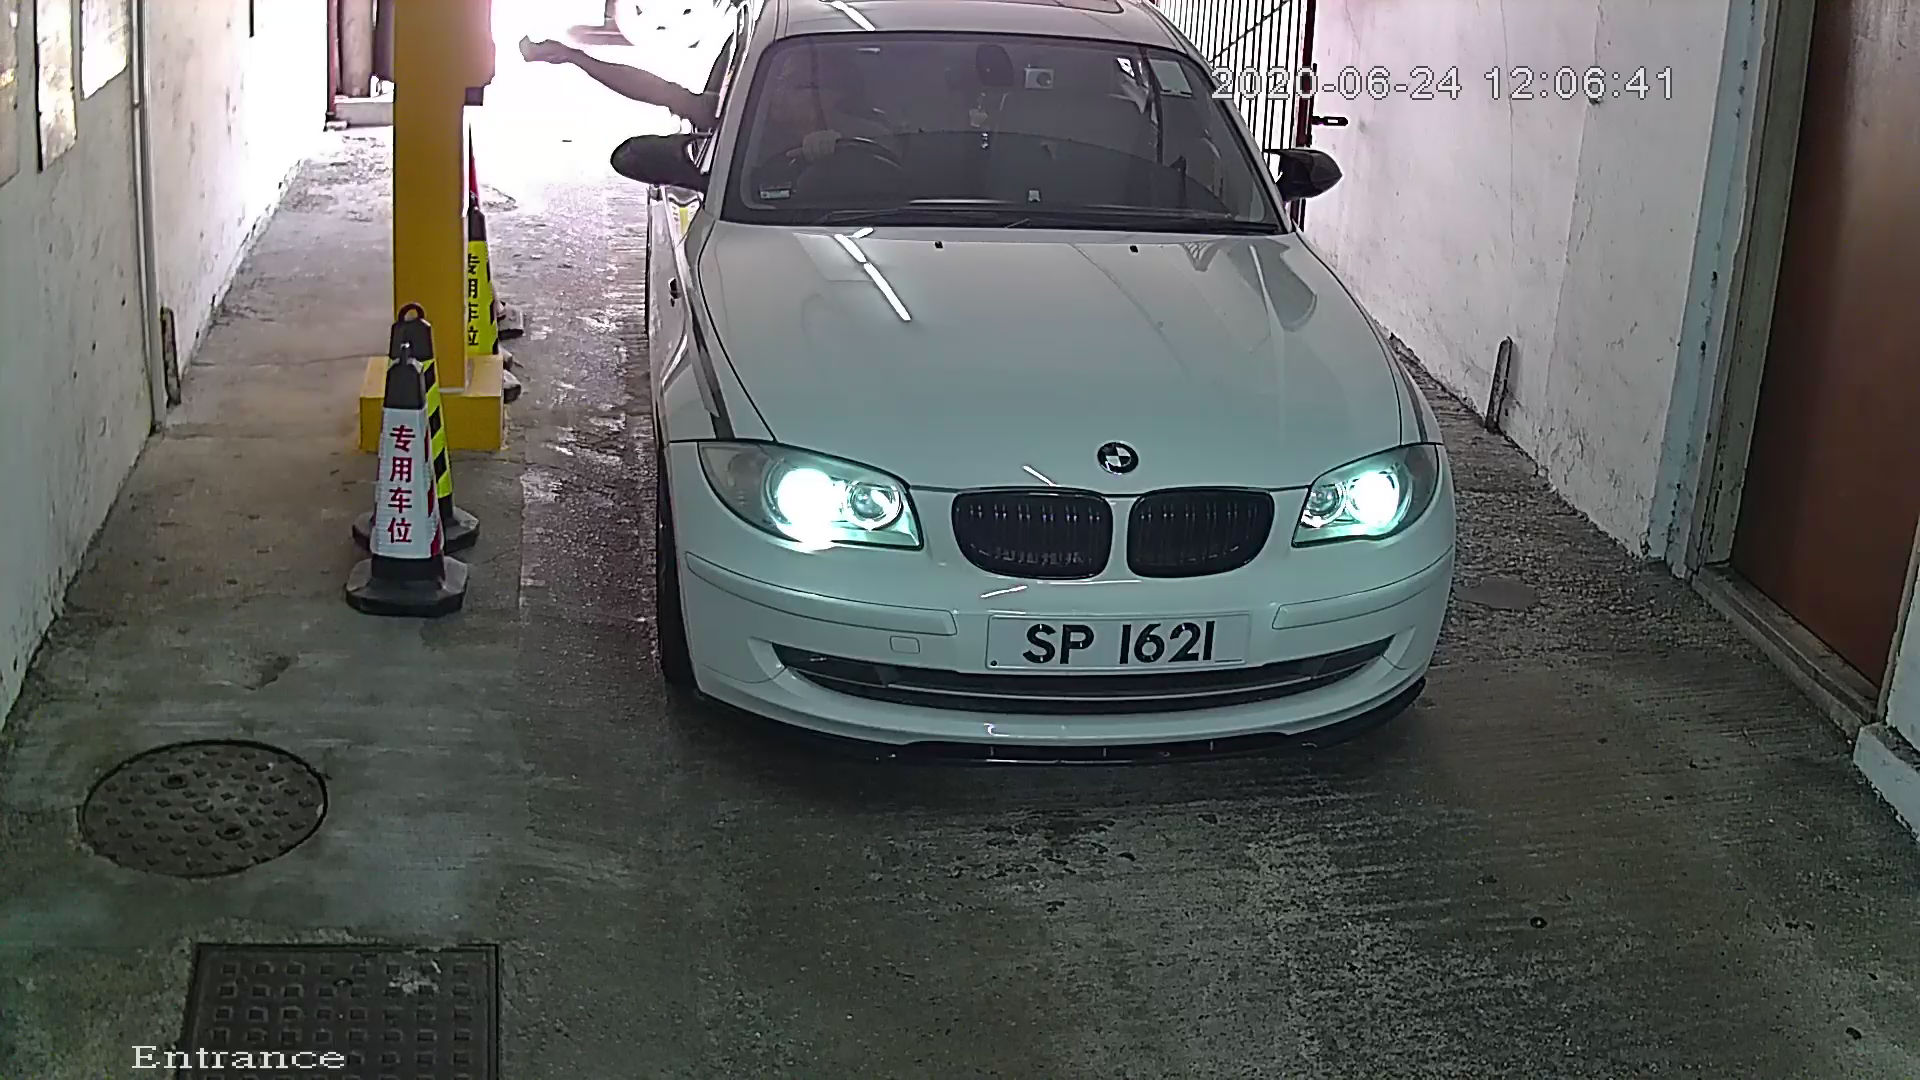Car: (601, 1, 1490, 840)
License Plate: (963, 592, 1268, 700)
